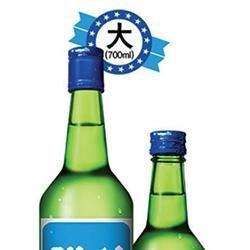soju: (38, 43, 208, 250)
